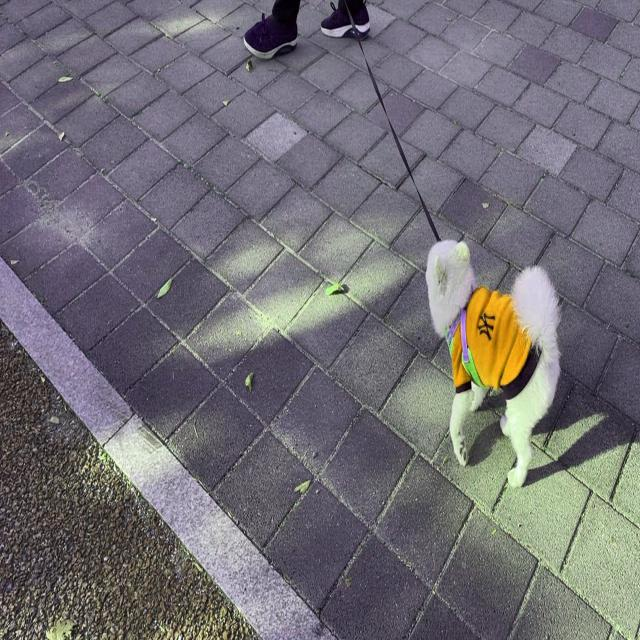Dog: (424, 237, 563, 490)
